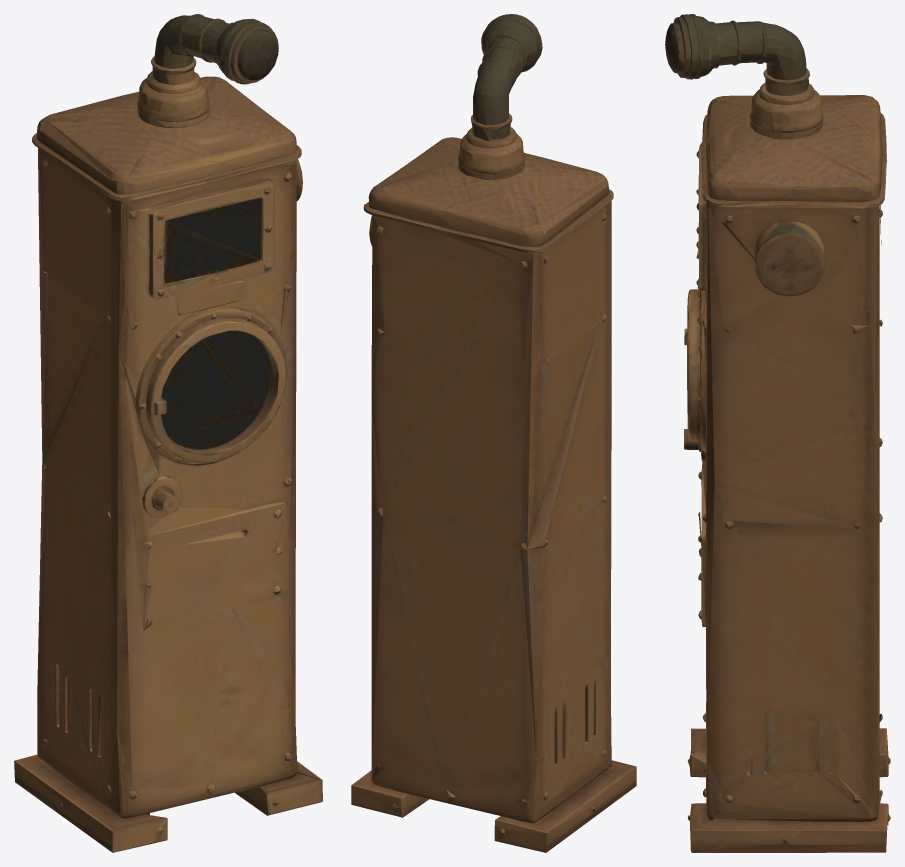
3 views of the same model, side by side, from view 1: azimuth 30°, elevation 25°; view 2: azimuth 150°, elevation 25°; view 3: azimuth 270°, elevation 25° (orthographic). The views are drawn at different scales.
Bounding box in the file's own units: 0.5652 × 1.9 × 0.4862.
1 material, 1 textured.
